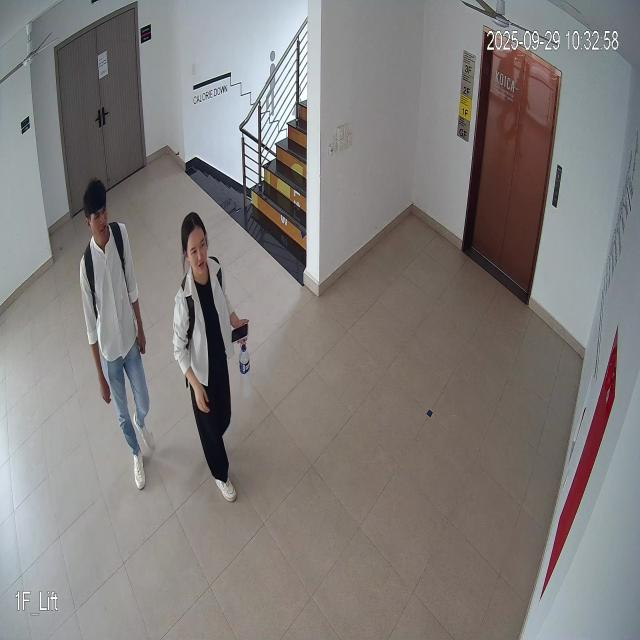face: (82, 182, 114, 254), (179, 211, 212, 278)
